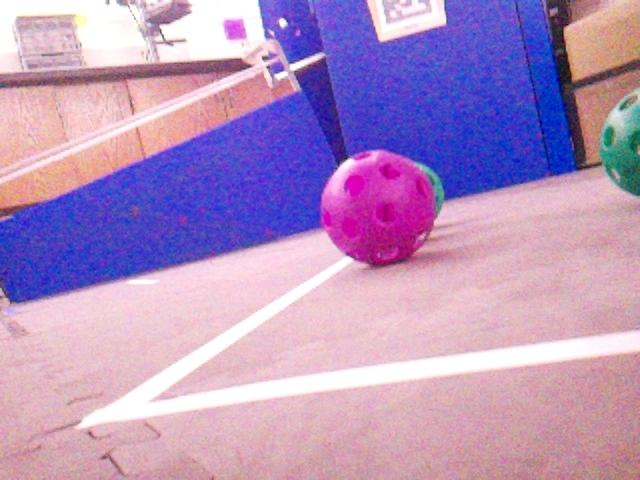Green: (597, 85, 640, 198), (416, 161, 447, 221)
Purple: (317, 147, 438, 266)
